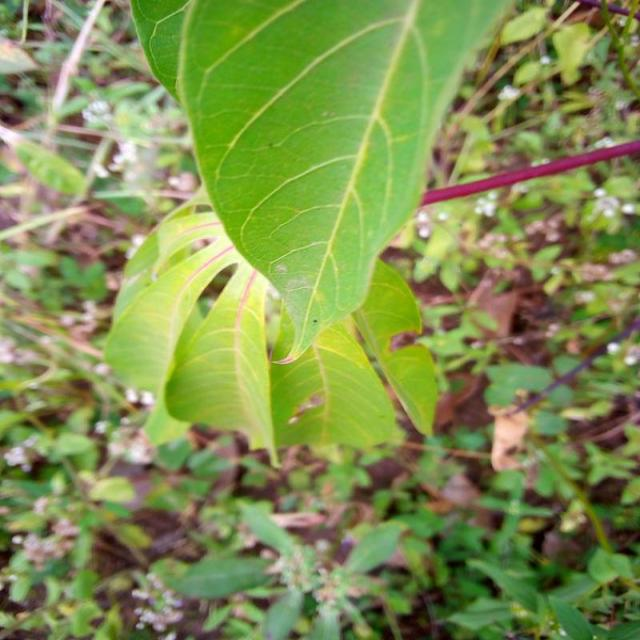cassava leaf: (171, 0, 511, 364)
